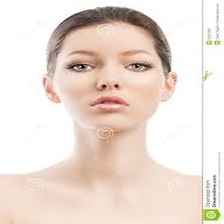no_mask: (58, 31, 162, 129)
